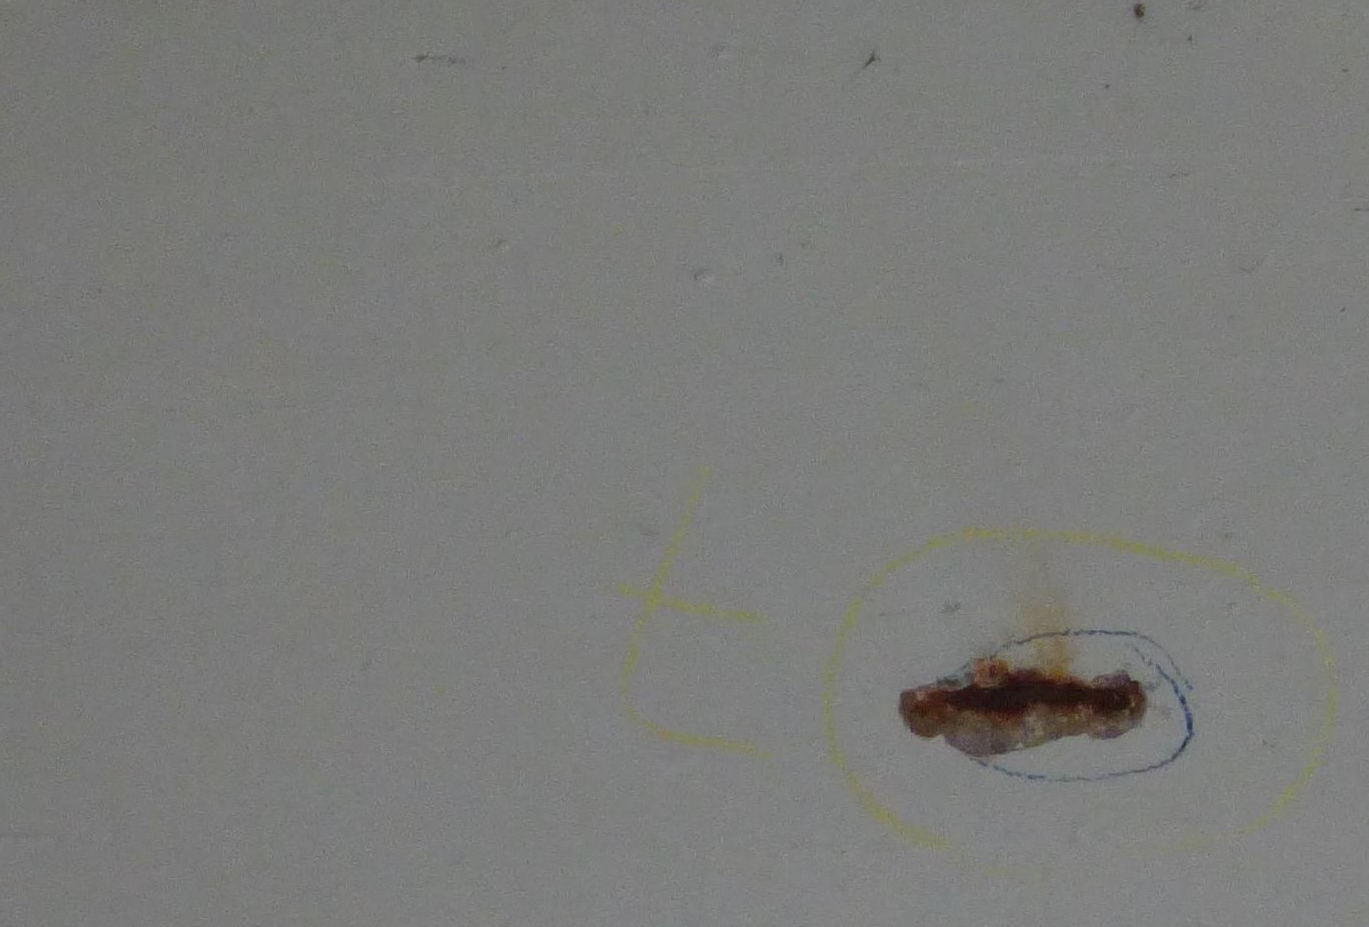Exposed reinforcement: (945, 685, 1131, 712)
Spalling: (898, 669, 1149, 759)
